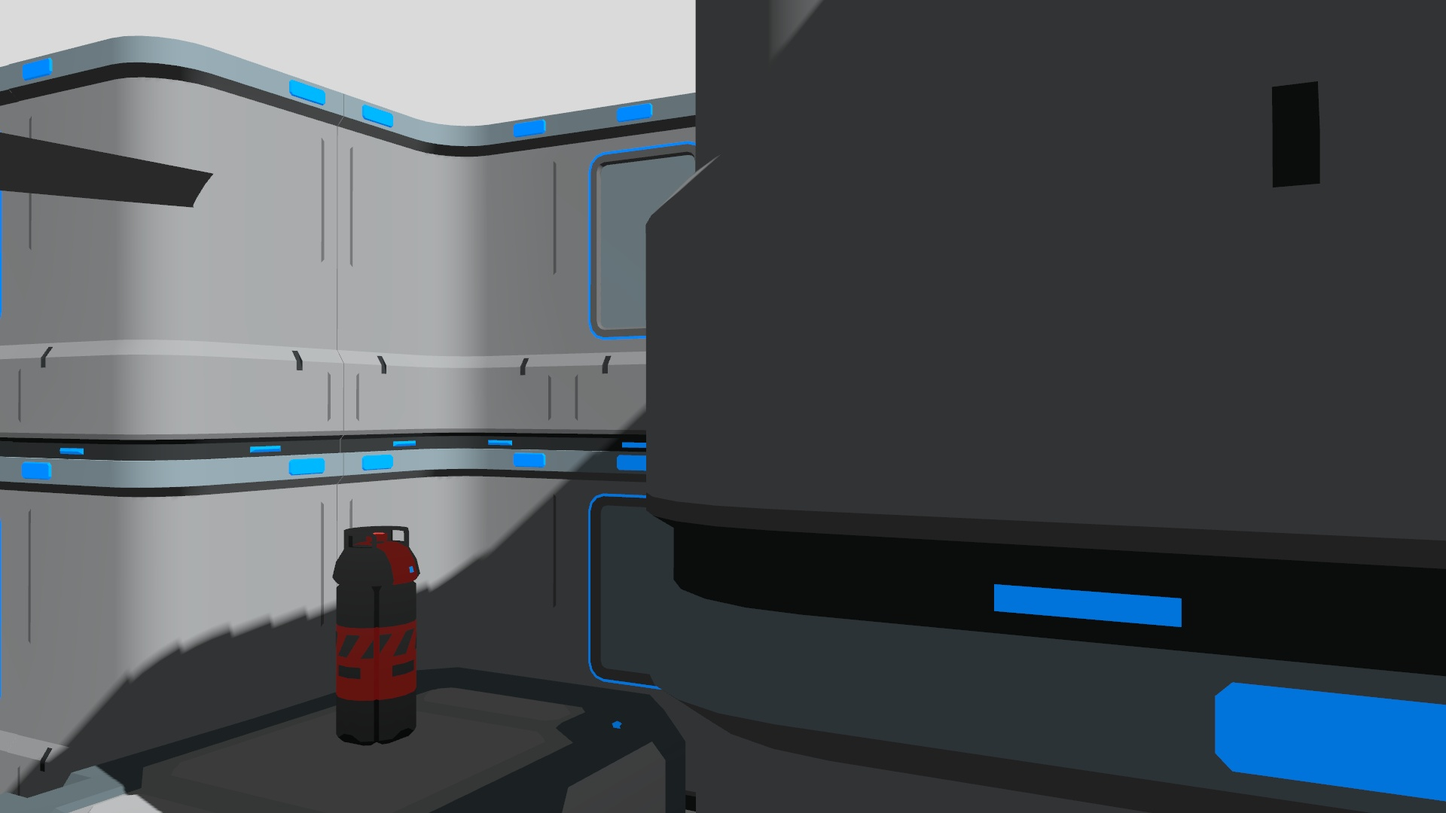red_barrel: (329, 522, 422, 750)
